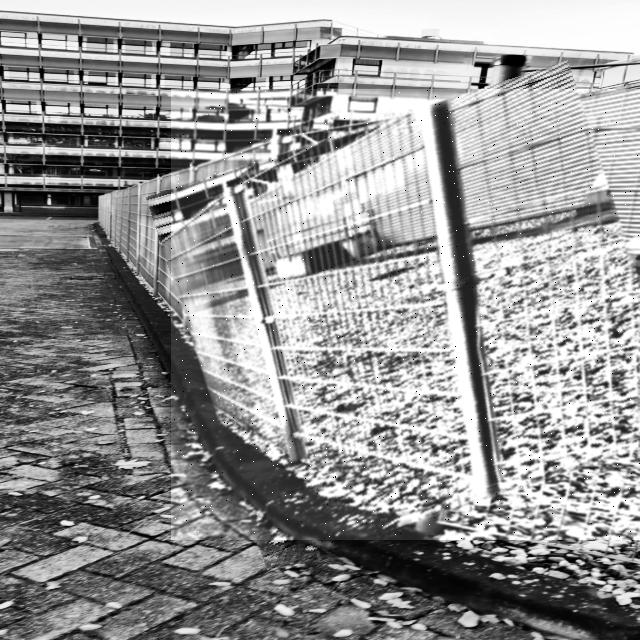fences: (171, 89, 640, 540)
